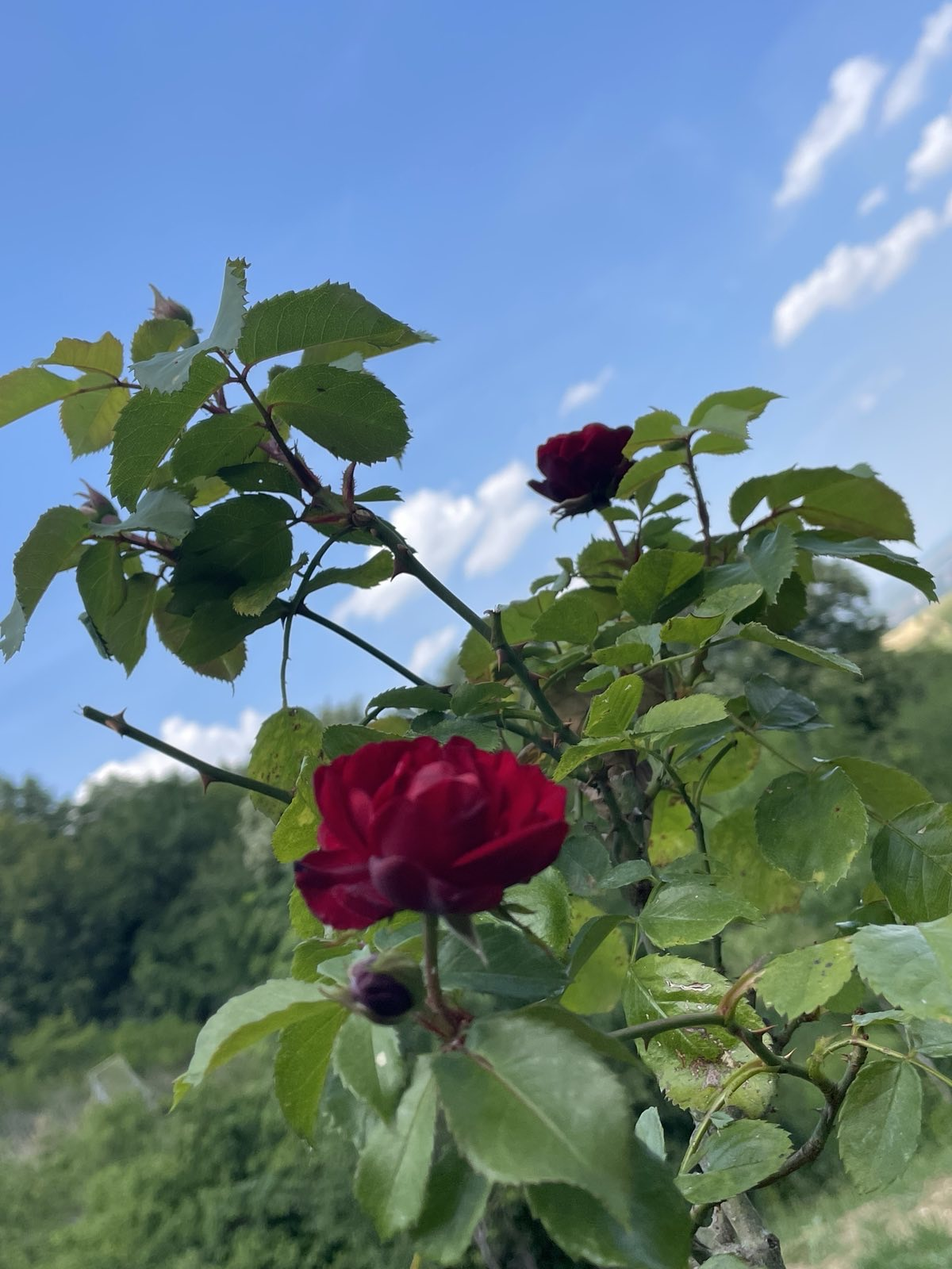rose: (285, 724, 559, 945), (518, 401, 648, 523)
